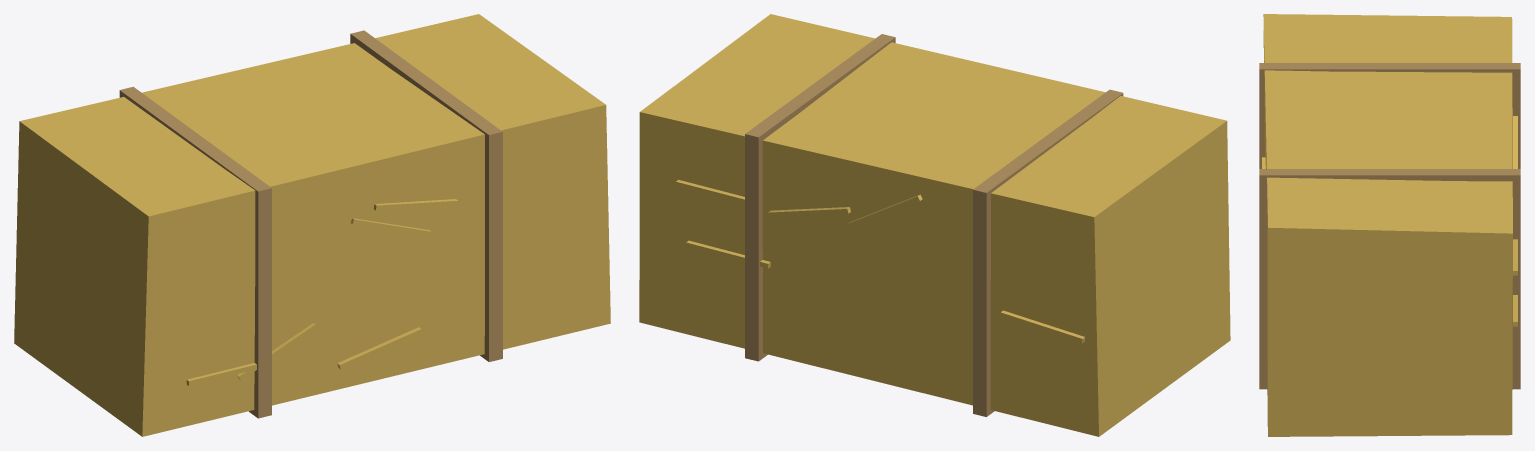
The model's file is SM_Hay_Bale.obj.
The picture shows the model from 3 angles, left to right: view 1: azimuth 30°, elevation 25°; view 2: azimuth 150°, elevation 25°; view 3: azimuth 270°, elevation 25°; orthographic projection. The views are drawn at different scales.
Visible parts, largest first — view 1: SM_Hay_Bale; view 2: SM_Hay_Bale; view 3: SM_Hay_Bale.
Part boxes in pixels (<box>): SM_Hay_Bale: <box>14,14,610,436</box>; SM_Hay_Bale: <box>639,14,1230,436</box>; SM_Hay_Bale: <box>1259,14,1520,436</box>.
Bounding box in the file's own units: 1.02 × 0.47 × 0.52.
